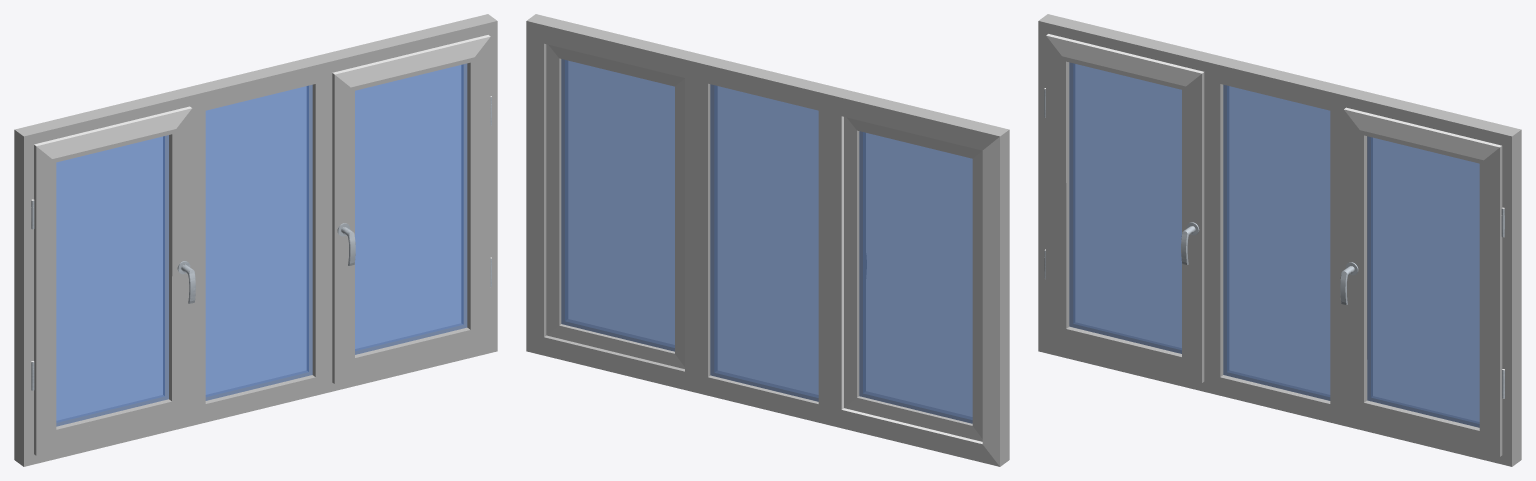
The model's file is windows2.gltf.
The picture shows the model from 3 angles, left to right: view 1: azimuth 30°, elevation 25°; view 2: azimuth 150°, elevation 25°; view 3: azimuth 330°, elevation 25°; orthographic projection.
Visible parts, largest first — view 1: root; view 2: root; view 3: root.
Boxes of the visible parts, <box> form: root: <box>14,14,497,466</box>; root: <box>526,14,1009,466</box>; root: <box>1038,14,1521,466</box>.
Bounding box in the file's own units: 1.8 × 1.2 × 0.1437.
5 materials, 2 textured.
